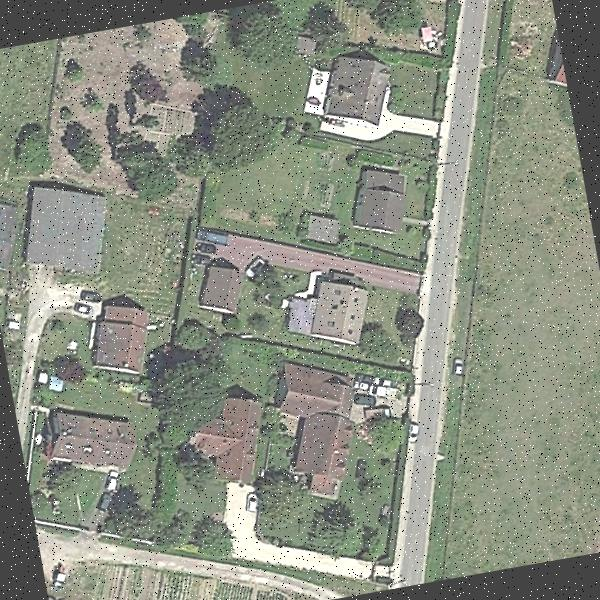Buildings: (270, 356, 375, 508), (15, 176, 116, 289), (42, 401, 140, 490), (308, 50, 401, 138), (188, 403, 264, 496), (288, 272, 376, 351), (83, 296, 156, 378), (344, 159, 414, 233), (200, 260, 244, 320), (544, 51, 569, 101)
